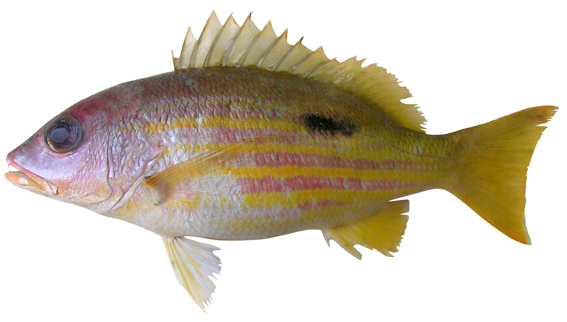fish: (4, 9, 559, 312)
